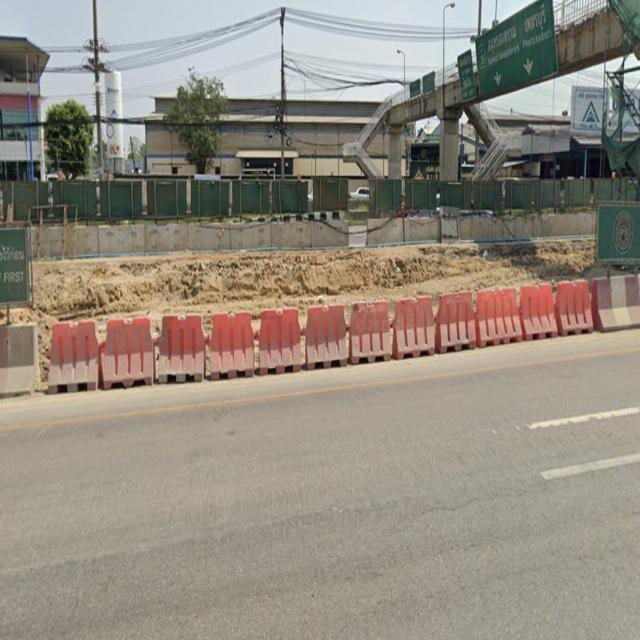fallen_object: (173, 275, 305, 379), (514, 267, 640, 351), (29, 312, 138, 396), (95, 309, 209, 389), (376, 285, 481, 370), (282, 296, 406, 360), (462, 273, 556, 351)
